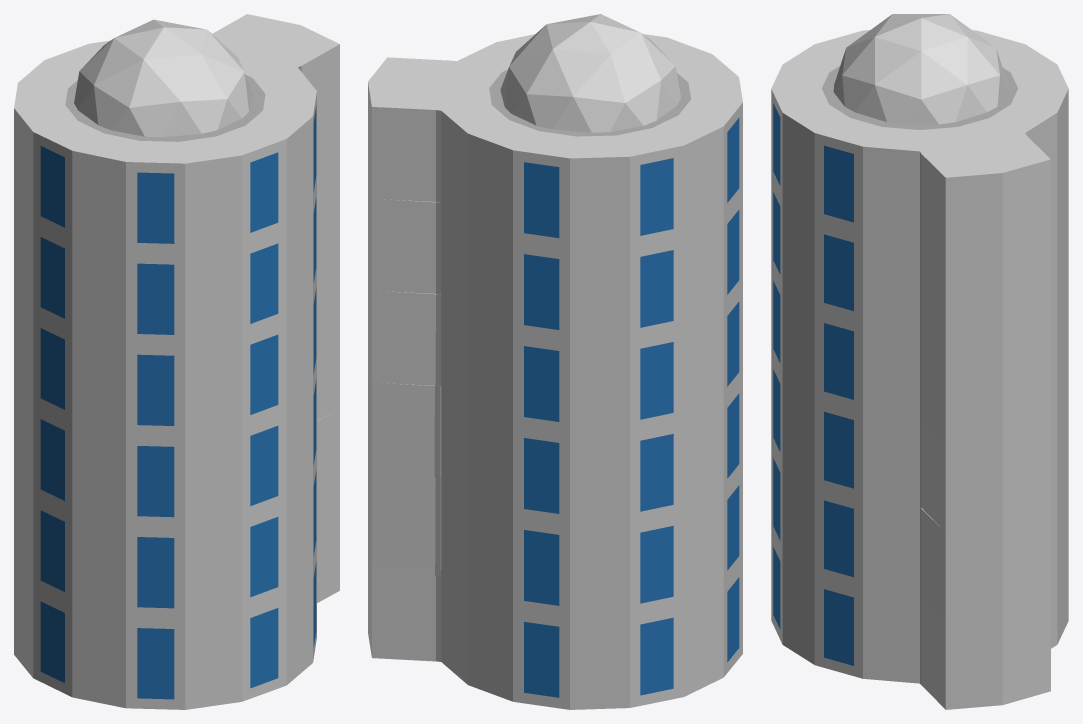
Rendered from Buildings1.fbx.
3 views of the same model, side by side, from view 1: azimuth 30°, elevation 25°; view 2: azimuth 150°, elevation 25°; view 3: azimuth 270°, elevation 25° (orthographic). The views are drawn at different scales.
Visible parts, largest first — view 1: building_009; view 2: building_009; view 3: building_009.
Part boxes in pixels (left/top/right/bottom): building_009: left=14, top=14, right=339, bottom=709; building_009: left=368, top=14, right=742, bottom=709; building_009: left=771, top=14, right=1068, bottom=709.
Bounding box in the file's own units: 1210 × 2234 × 1000.
